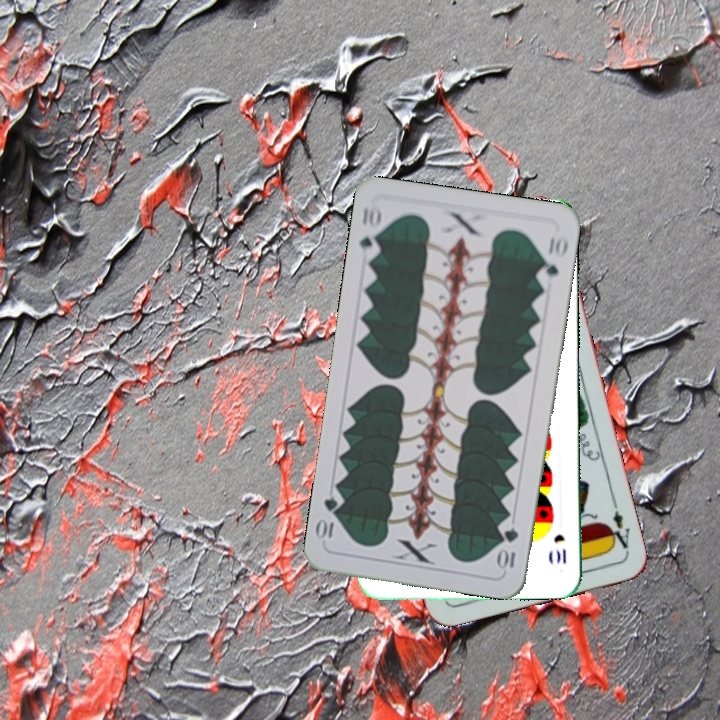EA: (603, 497, 633, 555)
G10: (355, 201, 384, 261), (496, 524, 521, 573)
S10: (549, 530, 569, 567)
